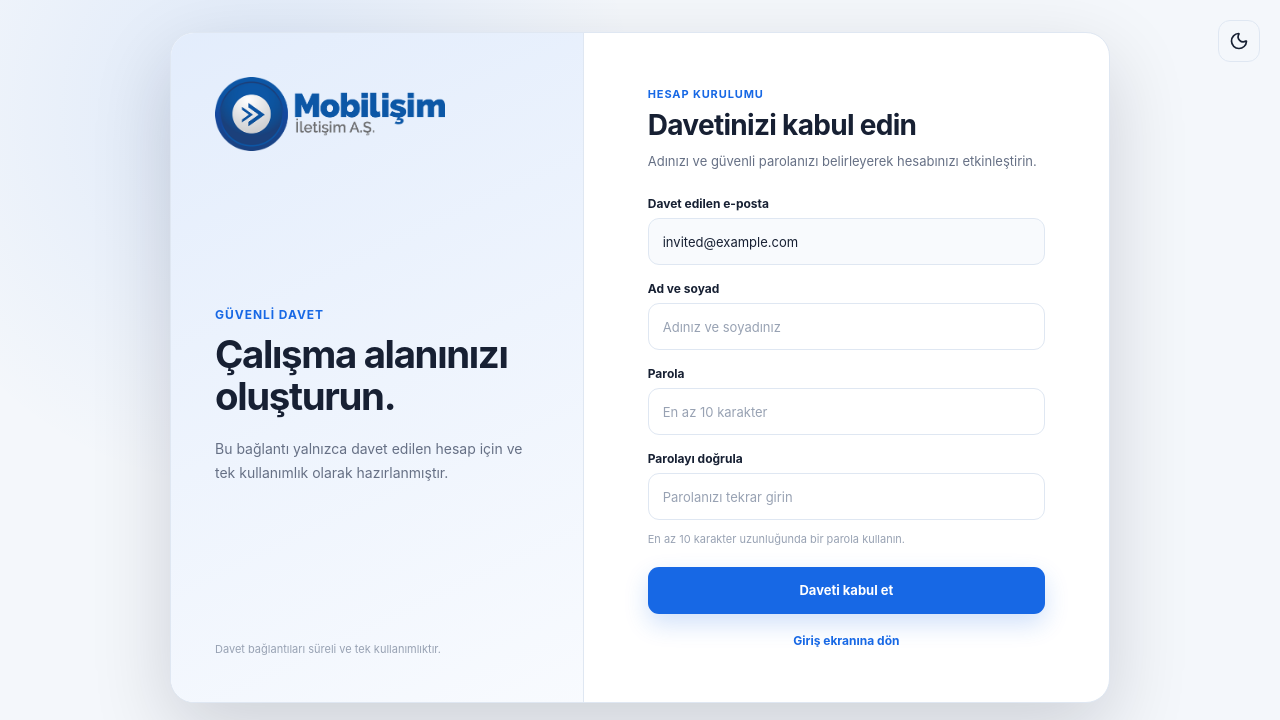
Test: InvitationAcceptScreen › davet önizlemesini yükleyip form kurallarını uygular
Step 1. Click the button "Daveti kabul et" → coordinates (846, 590), box [648,567,1045,614]
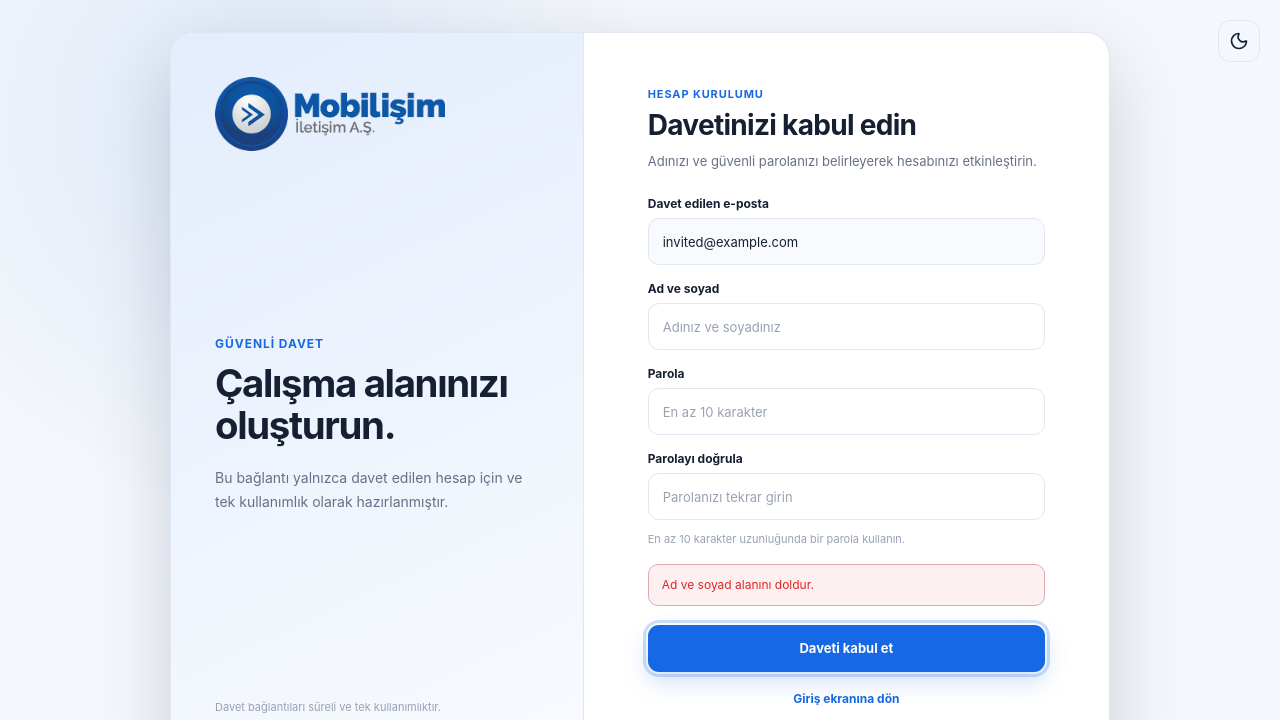
Result: the message reads "Ad ve soyad alanını doldur." at [662,577,814,592]
Step 2. Type "Ada Lovelace" into the field labelled "Ad ve soyad" → coordinates (846, 327), box [648,303,1045,350]
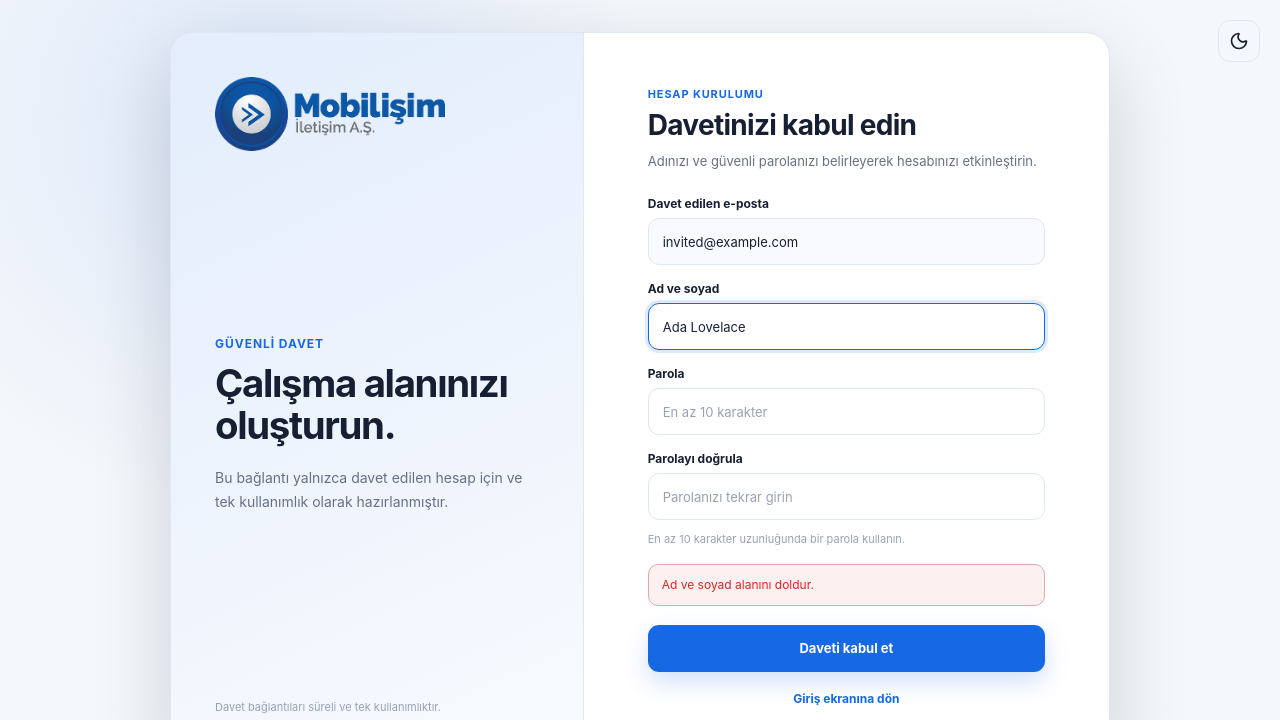
Step 3. Click the button "Daveti kabul et" → coordinates (846, 648), box [648,625,1045,672]
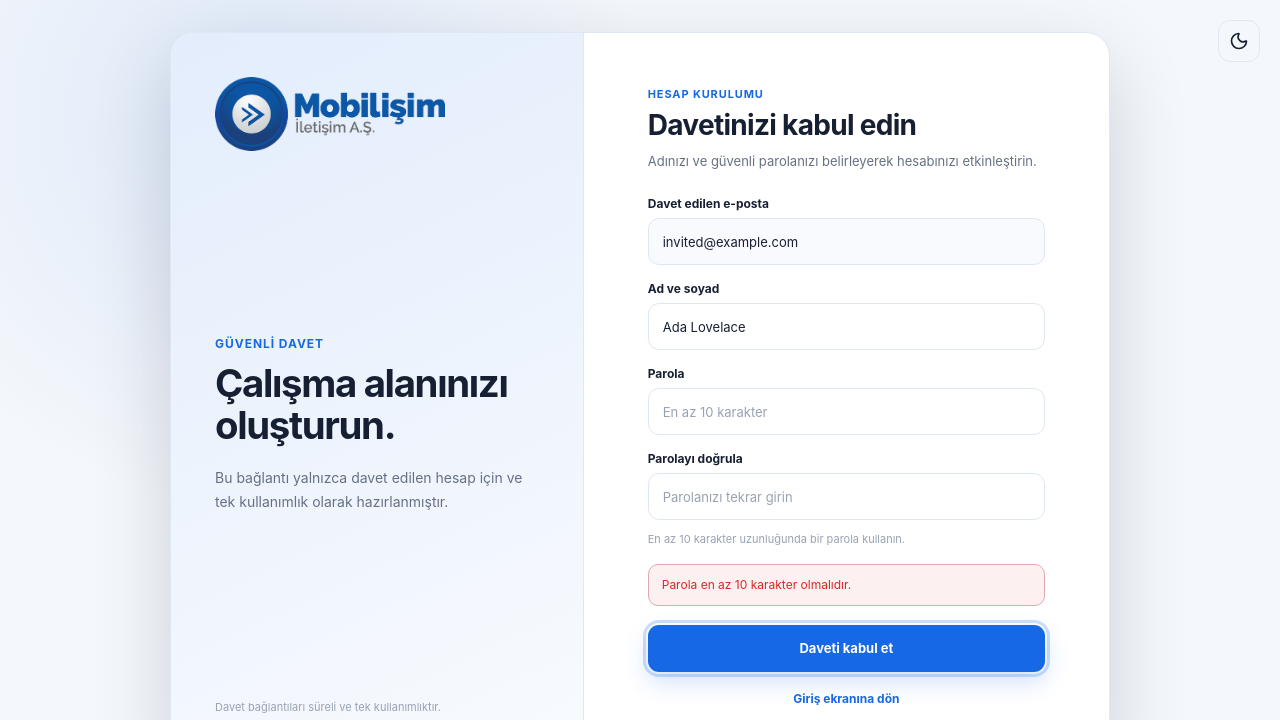
Result: the message reads "Parola en az 10 karakter olmalıdır." at [662,577,851,592]
